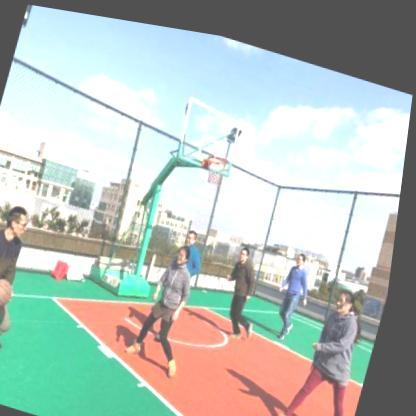basketball: (0, 275, 22, 308)
rim: (204, 144, 234, 179)
